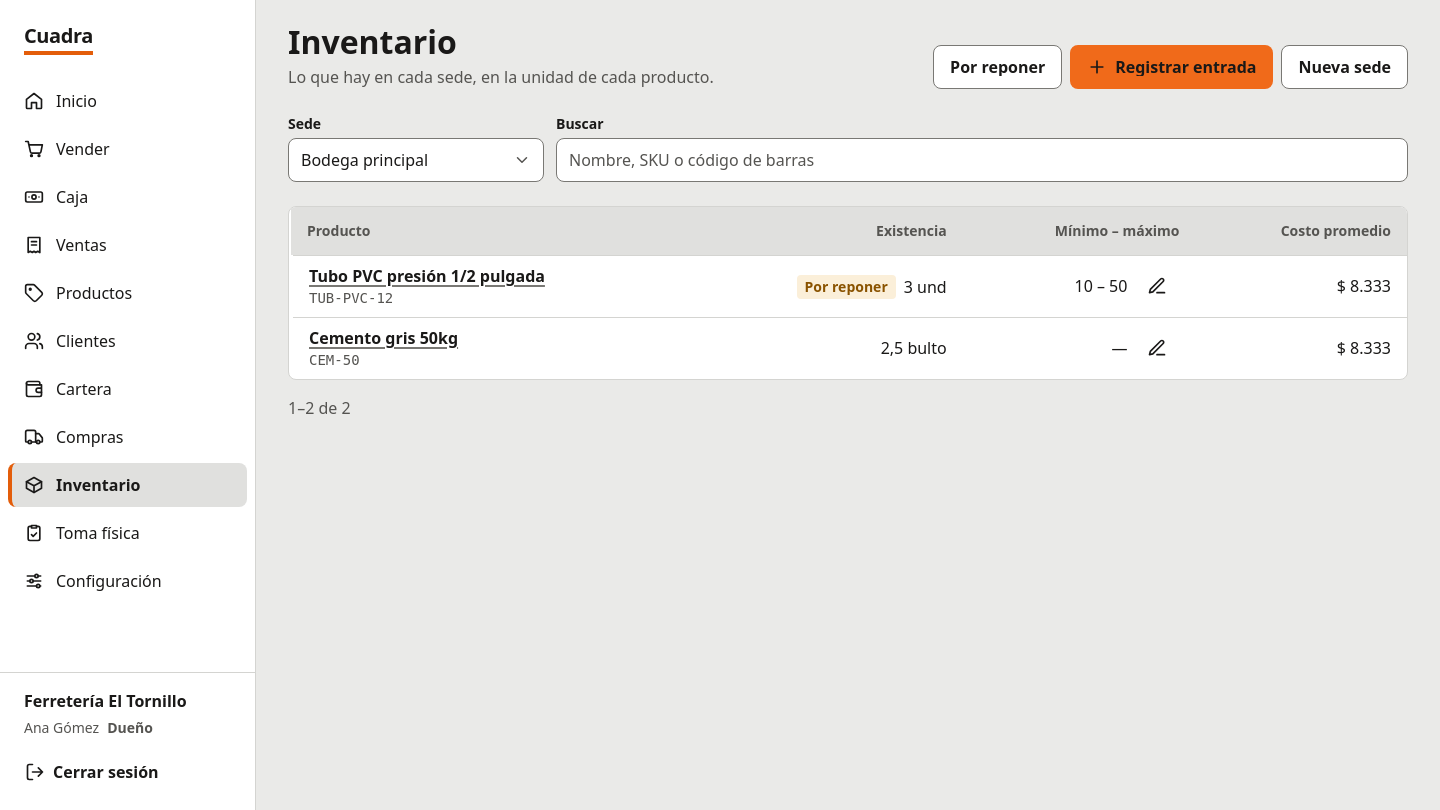
Test: StockPage: stock mínimo y máximo › lleva el error de la API al campo
Click the button named "Mínimo y máximo": (1157, 348) x1=1135 y1=326 x2=1179 y2=370
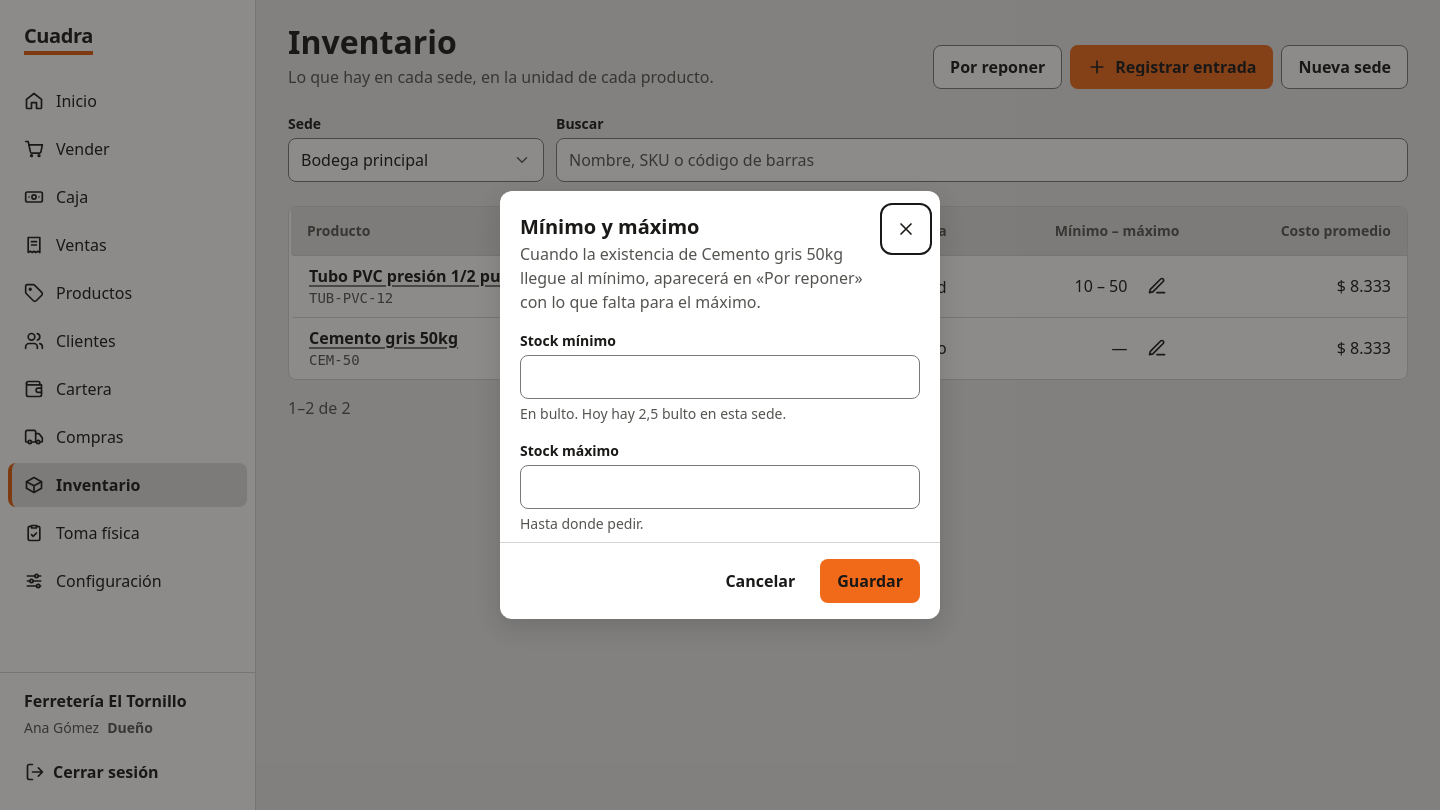
In the field labelled "Stock mínimo": (720, 377) x1=520 y1=355 x2=920 y2=399, type "1"
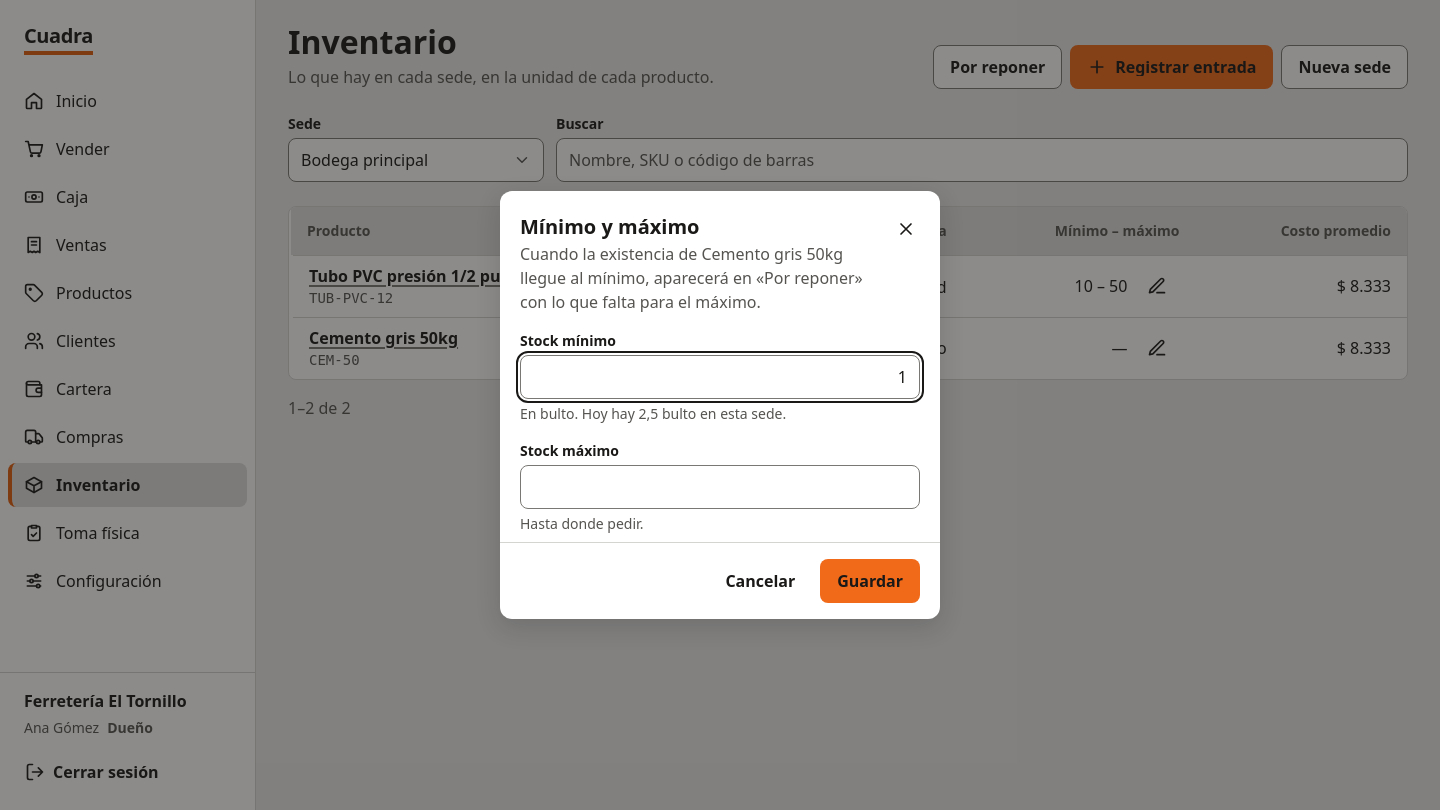
In the field labelled "Stock máximo": (720, 487) x1=520 y1=465 x2=920 y2=509, type "2"
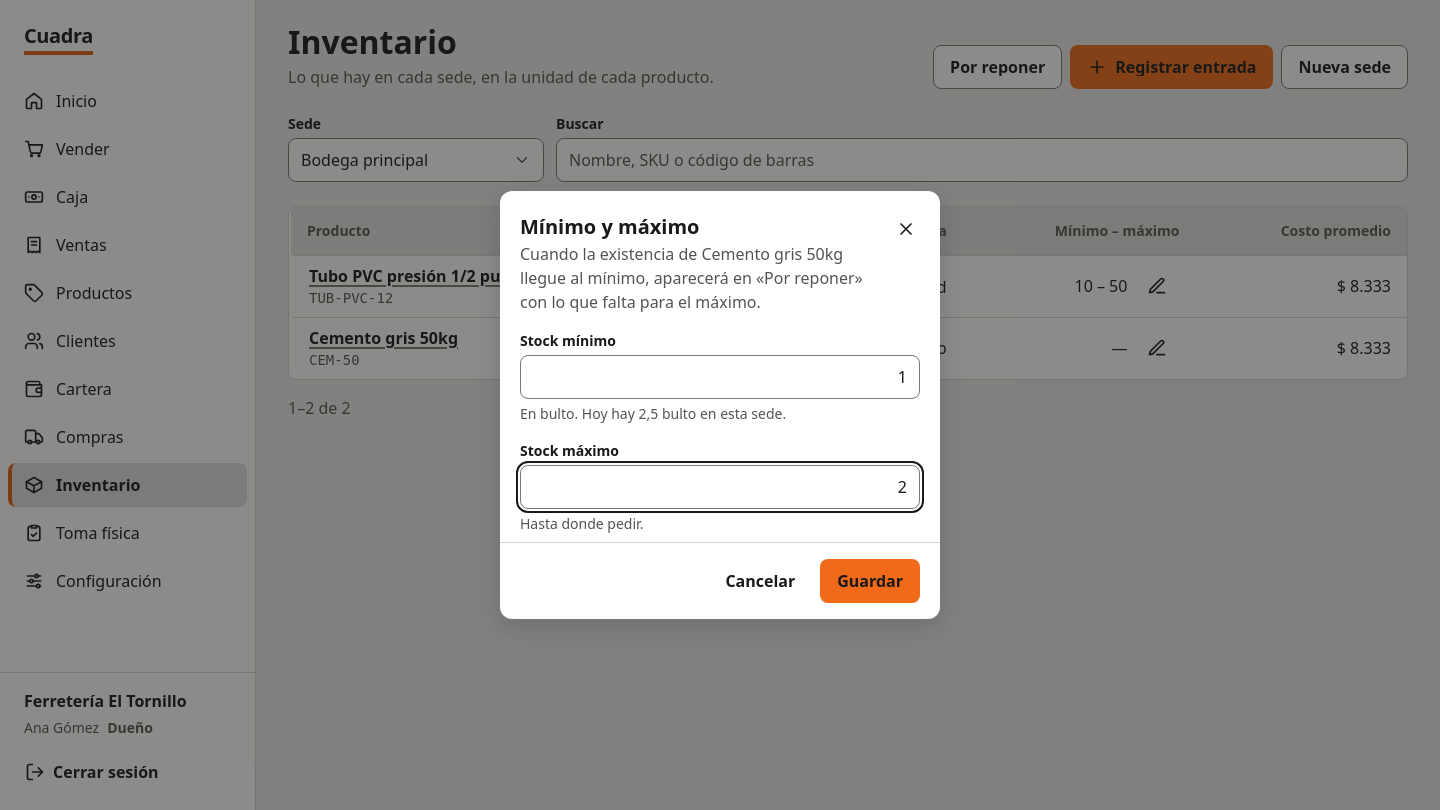
Click the button "Guardar": (870, 581) x1=820 y1=559 x2=920 y2=603
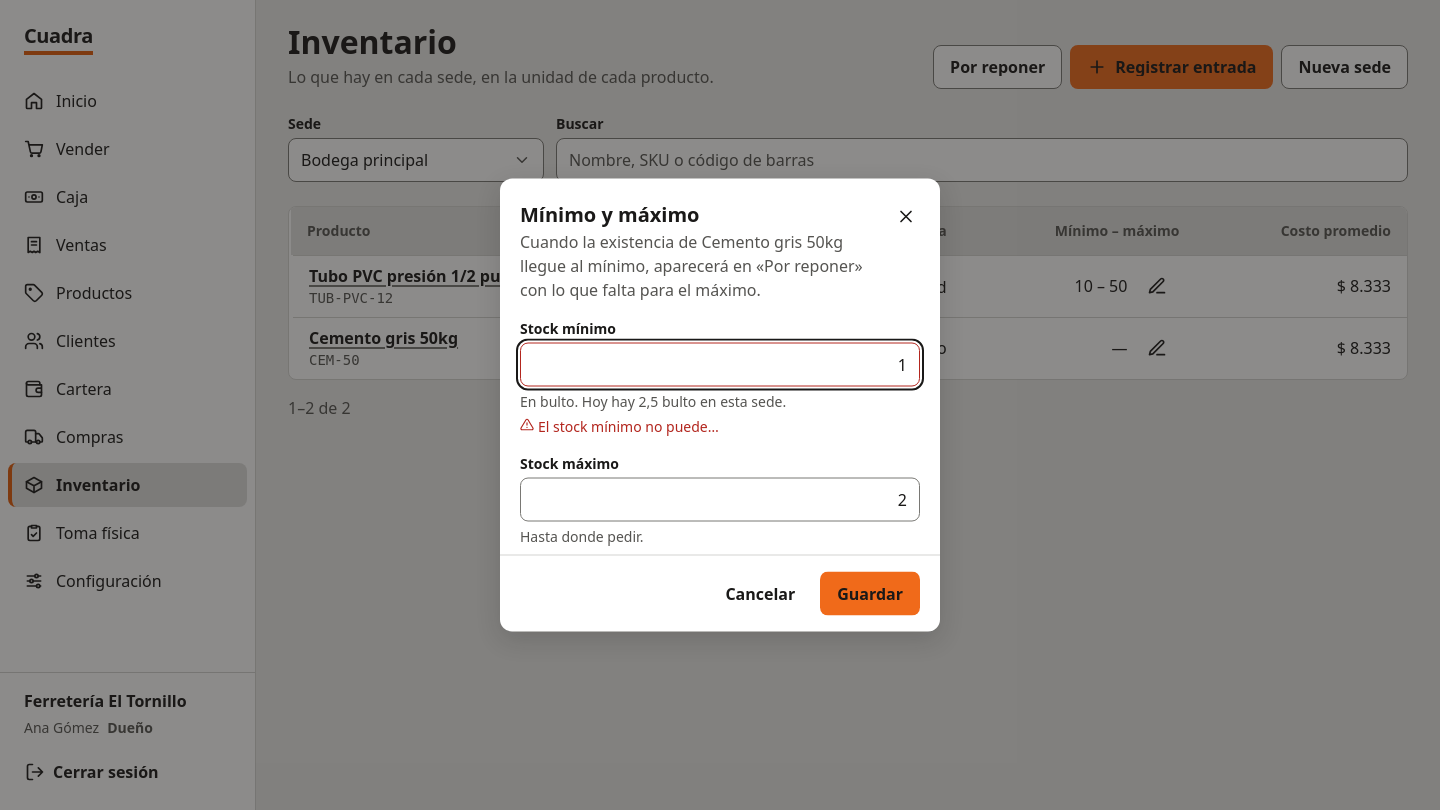
Expected: the text "El stock mínimo no puede…" is shown, x1=538 y1=416 x2=719 y2=436
